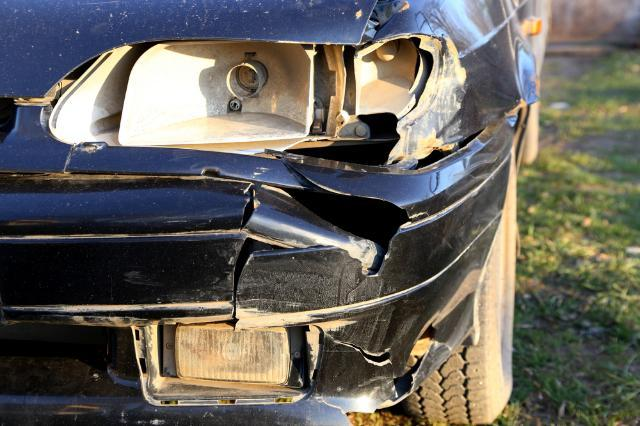crack: (281, 169, 428, 304), (321, 314, 453, 426), (231, 184, 289, 318)
lamp broken: (51, 38, 432, 163)
